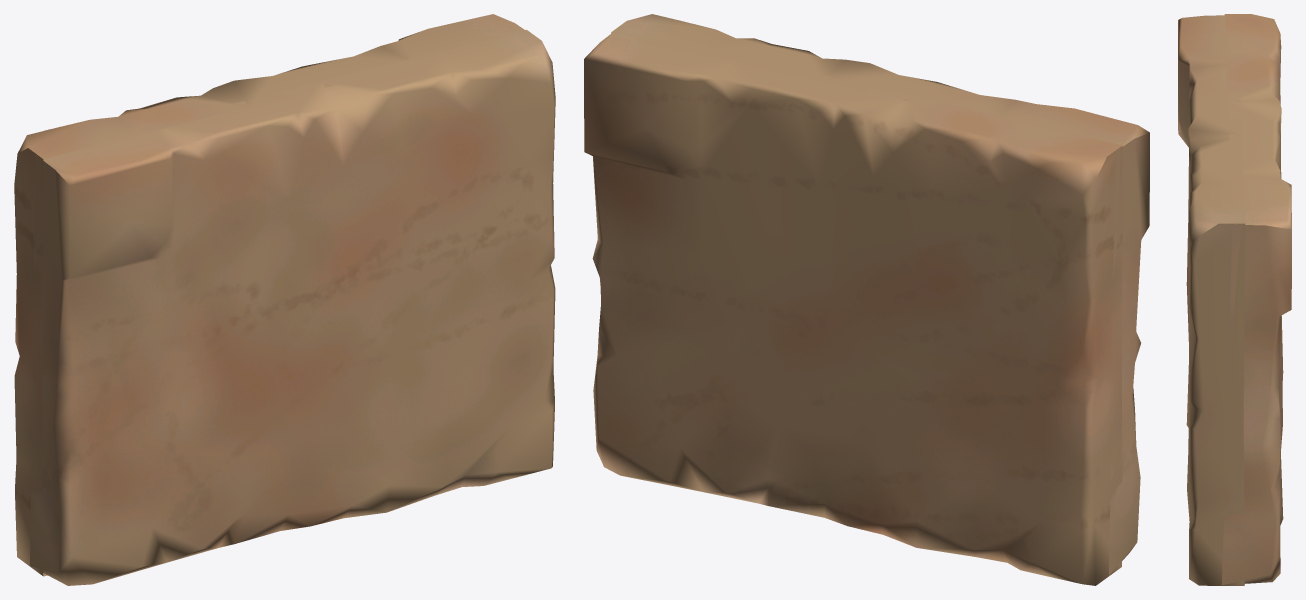
File: Ruin wall.fbx
3 renders of one model, left to right at view 1: azimuth 30°, elevation 25°; view 2: azimuth 150°, elevation 25°; view 3: azimuth 270°, elevation 25°, orthographic. The views are drawn at different scales.
Parts seen in each view (by area): view 1: node_id4, node_id36; view 2: node_id36, node_id4; view 3: node_id4, node_id36.
Part boxes in pixels (x1=…): node_id4: x1=30, y1=29, x2=555, y2=585; node_id36: x1=14, y1=14, x2=524, y2=576; node_id36: x1=584, y1=32, x2=1122, y2=585; node_id4: x1=611, y1=14, x2=1149, y2=575; node_id4: x1=1178, y1=15, x2=1245, y2=585; node_id36: x1=1221, y1=14, x2=1291, y2=585.
Size of the model in its own units: 0.512 by 0.4126 by 0.1175.
2 materials, 2 textured.
